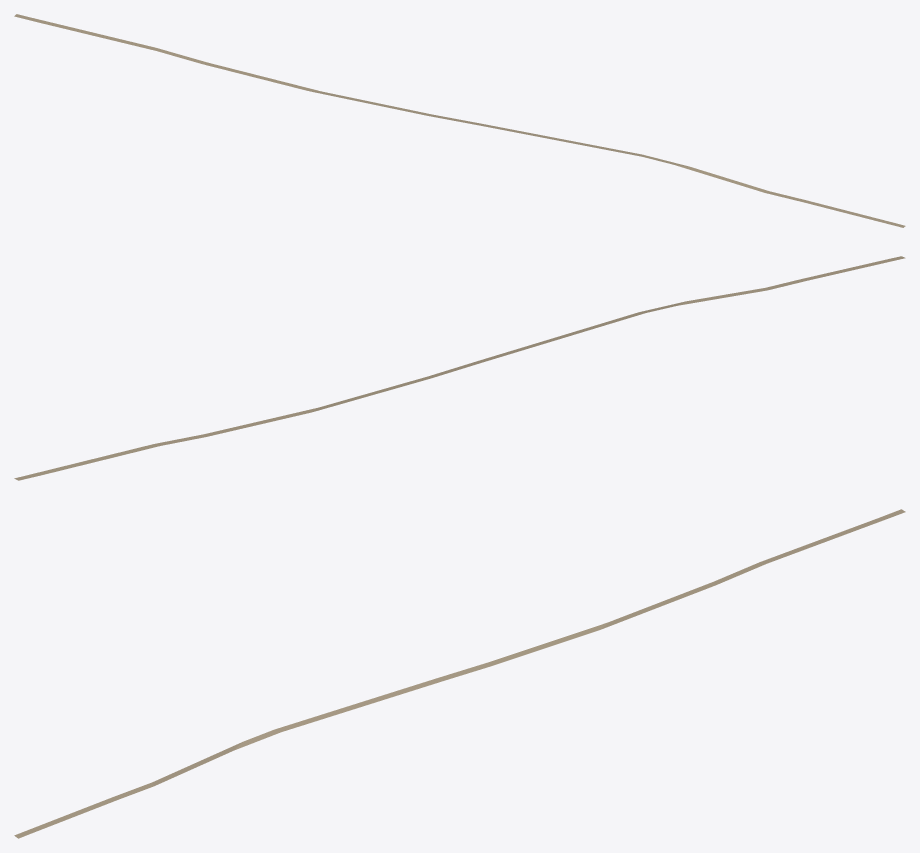
Rendered from farm_-5_6_track.glb.
The picture shows the model from 3 angles, top to bottom: view 1: azimuth 90°, elevation 25°; view 2: azimuth 150°, elevation 25°; view 3: azimuth 330°, elevation 25°; orthographic projection. The views are drawn at different scales.
Parts seen in each view (by area): view 1: geometry_0; view 2: geometry_0; view 3: geometry_0.
Part boxes in pixels (x1=…): geometry_0: x1=14, y1=14, x2=905, y2=227; geometry_0: x1=14, y1=256, x2=905, y2=480; geometry_0: x1=14, y1=509, x2=905, y2=838.
Bounding box in the file's own units: 197 × 25.25 × 440.
